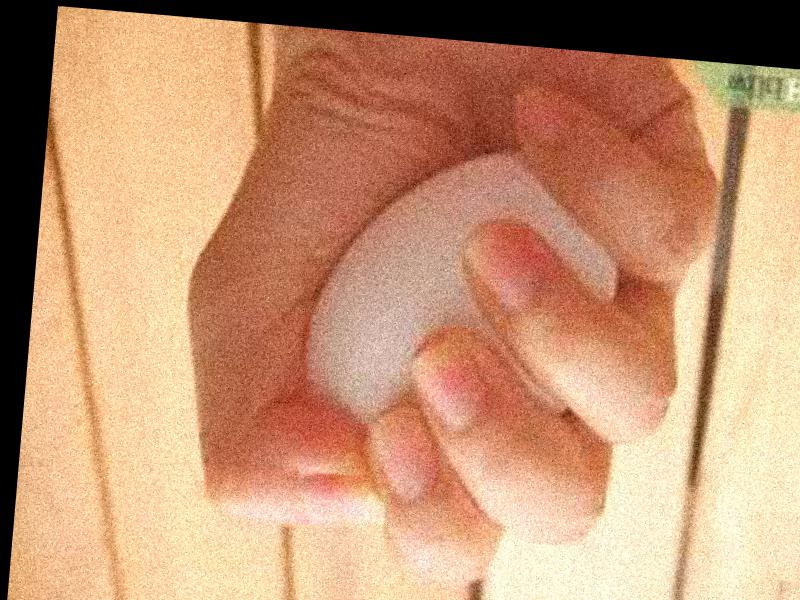Eggs: (297, 136, 631, 476)
